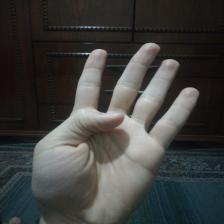four: (23, 38, 209, 220)
